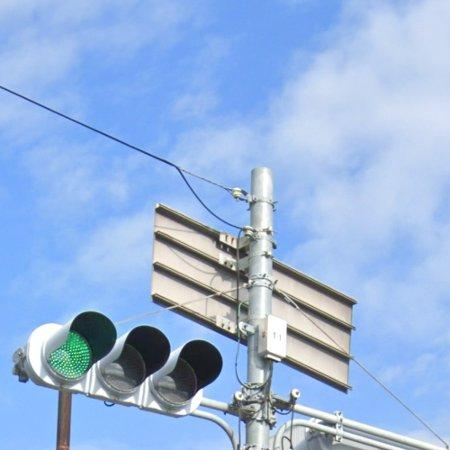traffic lights: (14, 312, 222, 418)
